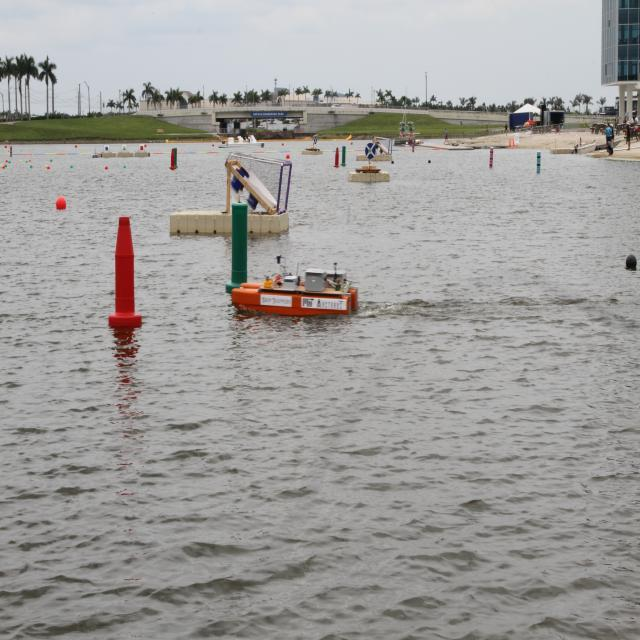buoy: (624, 252, 638, 274), (56, 192, 68, 210)
